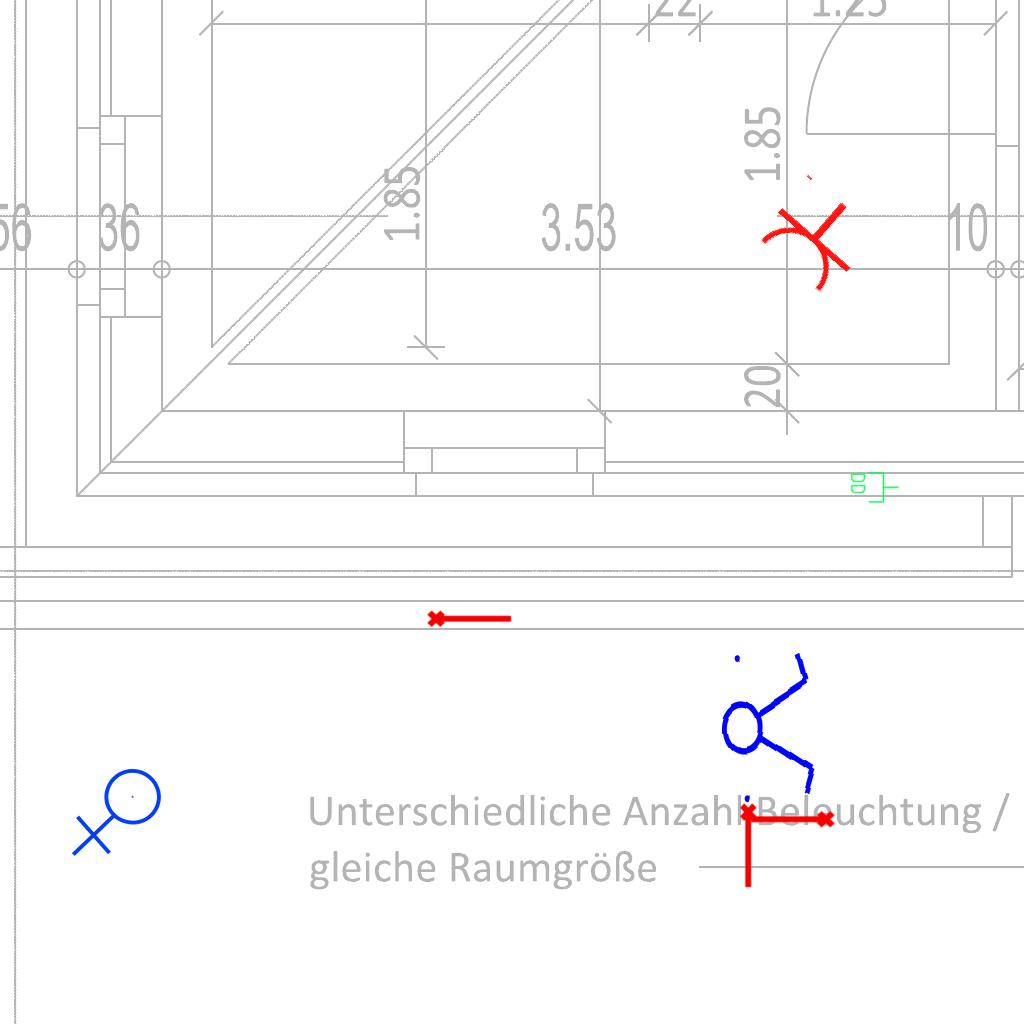ASR_Ansaugoeffnung: (738, 802, 761, 890), (426, 606, 514, 629), (748, 809, 836, 832)
Datenanschluss_zweifach: (849, 470, 900, 504)
Elektroanschluss_allgemein_230V_Geraeteanschlussdose_230V: (71, 767, 170, 861)
Schukosteckdose_einfach: (749, 169, 882, 301)
Serienschalter: (714, 637, 822, 813)
